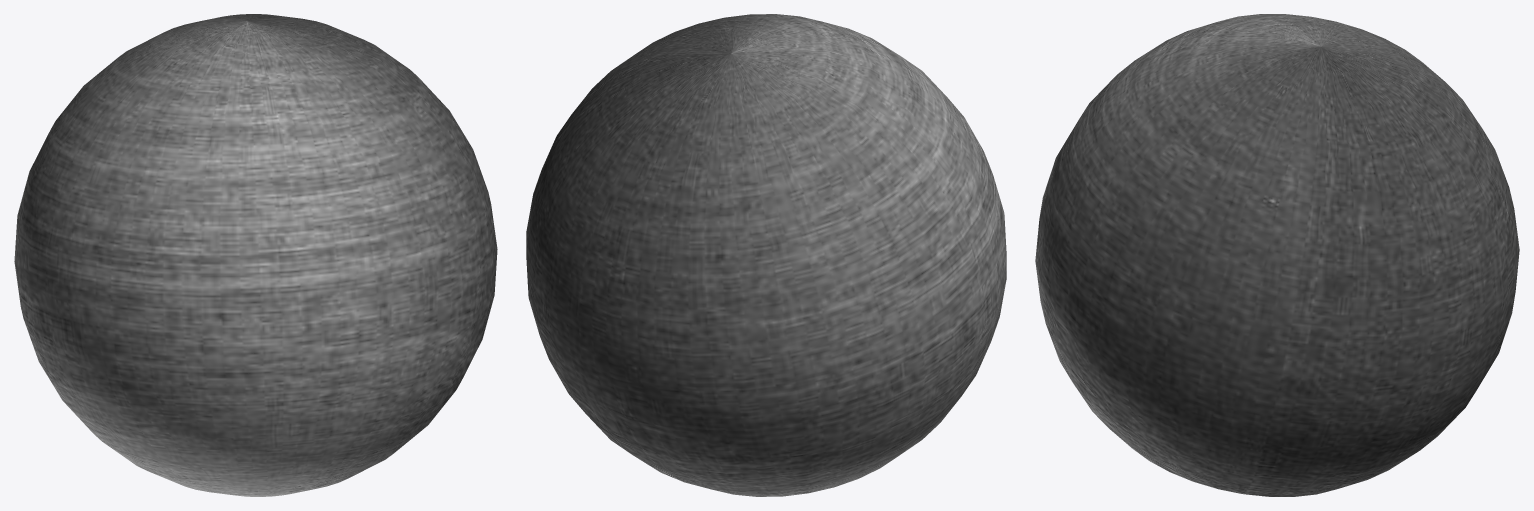
Rendered from ballVM.obj.
3 renders of one model, left to right at view 1: azimuth 30°, elevation 25°; view 2: azimuth 150°, elevation 25°; view 3: azimuth 270°, elevation 25°, orthographic.
Parts seen in each view (by area): view 1: Sphere; view 2: Sphere; view 3: Sphere.
Boxes of the visible parts, left/top/right/bottom form: Sphere: left=14, top=14, right=497, bottom=496; Sphere: left=526, top=14, right=1006, bottom=496; Sphere: left=1035, top=14, right=1519, bottom=496.
Bounding box in the file's own units: 1.48 × 1.48 × 1.48.
1 material, 1 textured.
